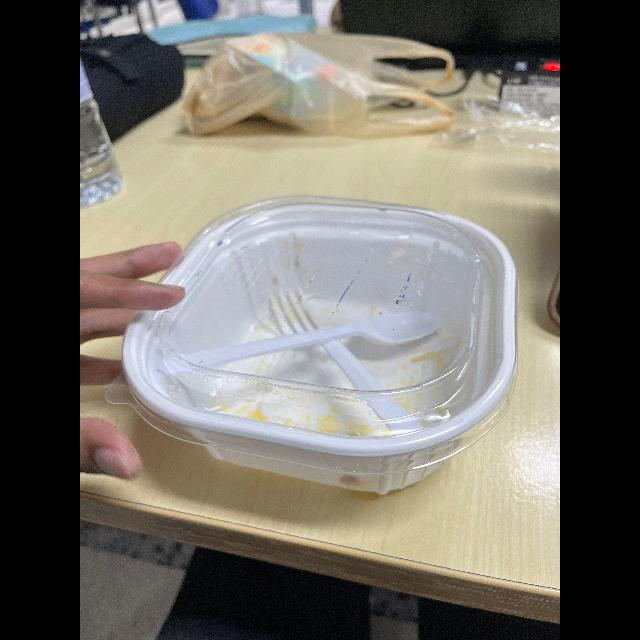plastic_box: (117, 192, 521, 488)
